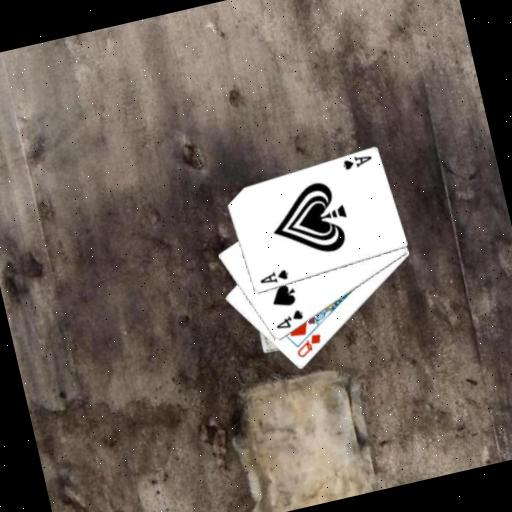4S: (270, 306, 307, 333)
AS: (338, 150, 375, 173), (255, 266, 291, 289)
QD: (290, 330, 327, 361)
